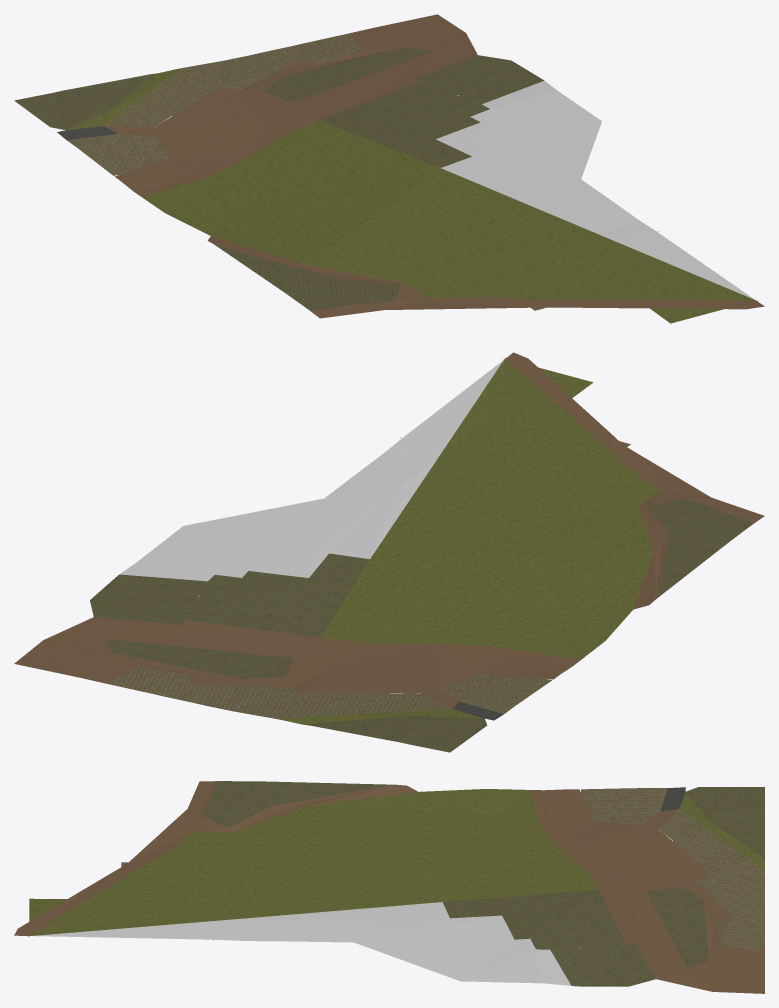
Rendered from Terreno006.fbx.
3 views of the same model, one above another, from view 1: azimuth 30°, elevation 25°; view 2: azimuth 150°, elevation 25°; view 3: azimuth 270°, elevation 25° (orthographic). The views are drawn at different scales.
Visible parts, largest first — view 1: Terreno.006; view 2: Terreno.006; view 3: Terreno.006.
Part boxes in pixels (box(x1,y1,x2,y2)): Terreno.006: box(14, 14, 764, 323); Terreno.006: box(14, 352, 764, 752); Terreno.006: box(14, 781, 764, 993).
Bounding box in the file's own units: 24715 × 1358 × 40826.
